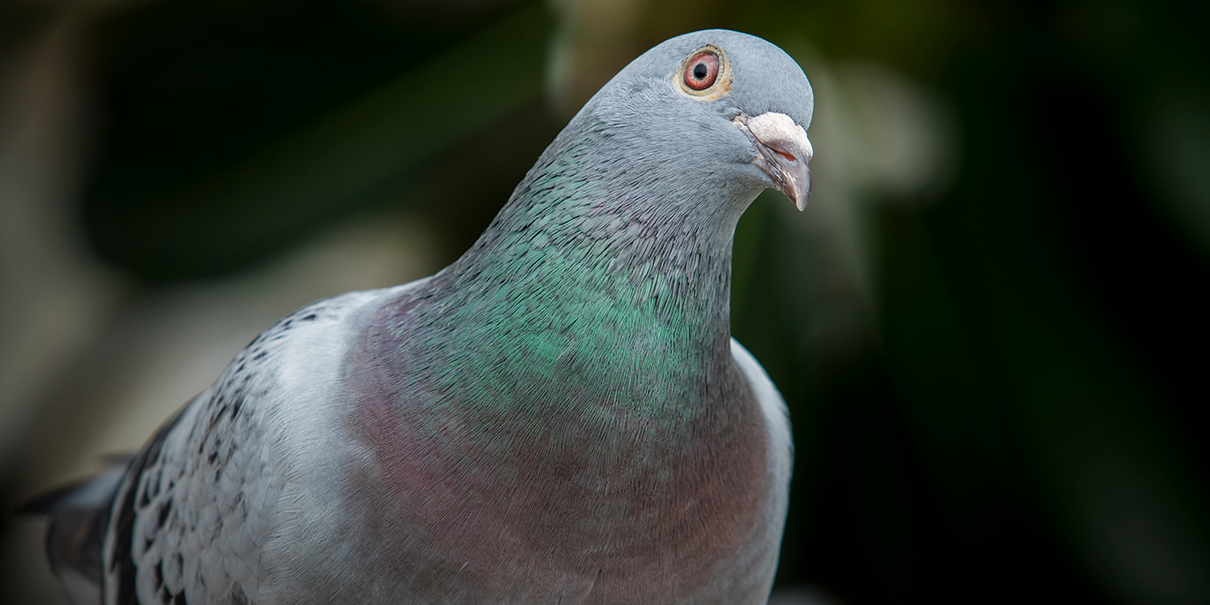Flying Rat: (33, 28, 836, 605)
